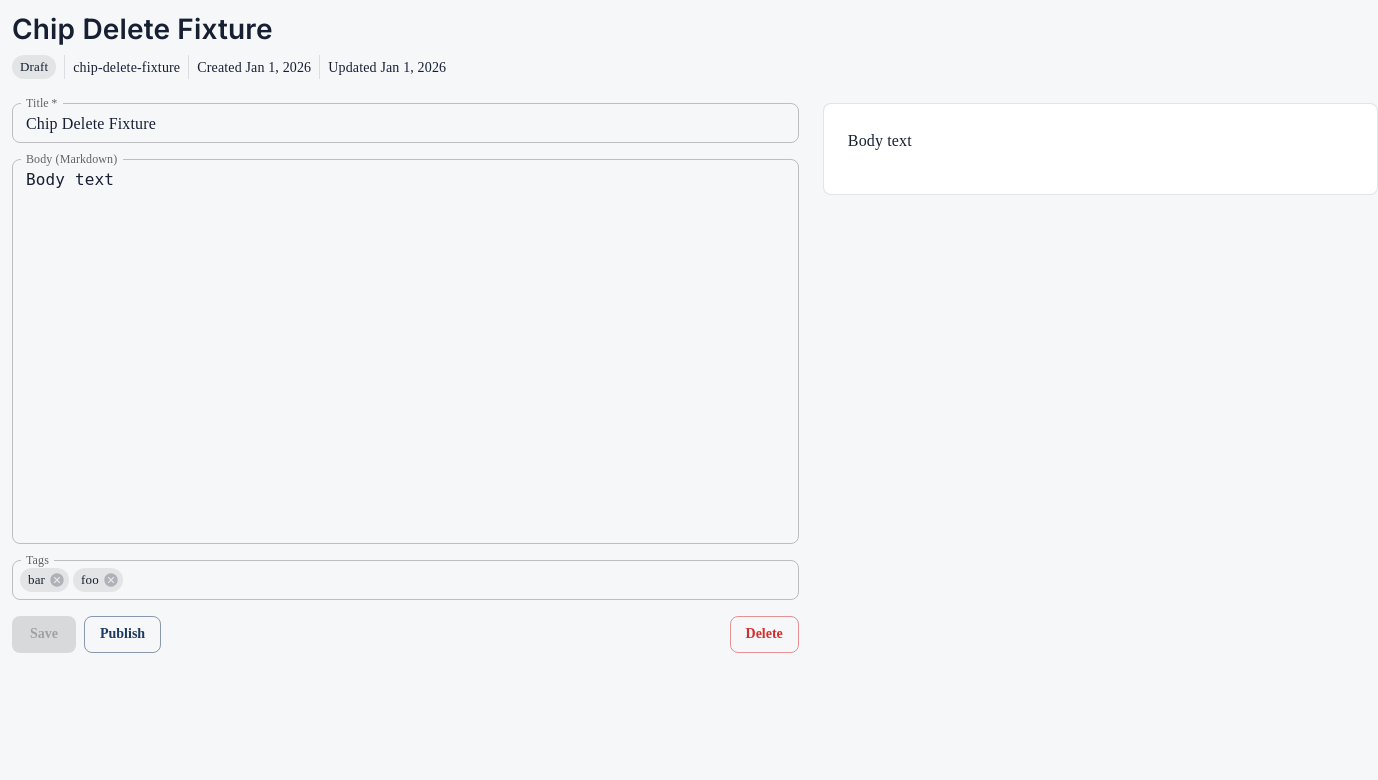
ContentEditorScreen tag chip delete preserves in-progress typing (WR-11 fix round 1) › deleting a chip with no pending typed text still removes only that tag
Check: the text "bar" is shown, box [28,572,45,587]
Check: the text "foo" is shown, box [81,572,99,587]
Click the 1st icon.
click(57, 580)  # box [49,572,65,588]
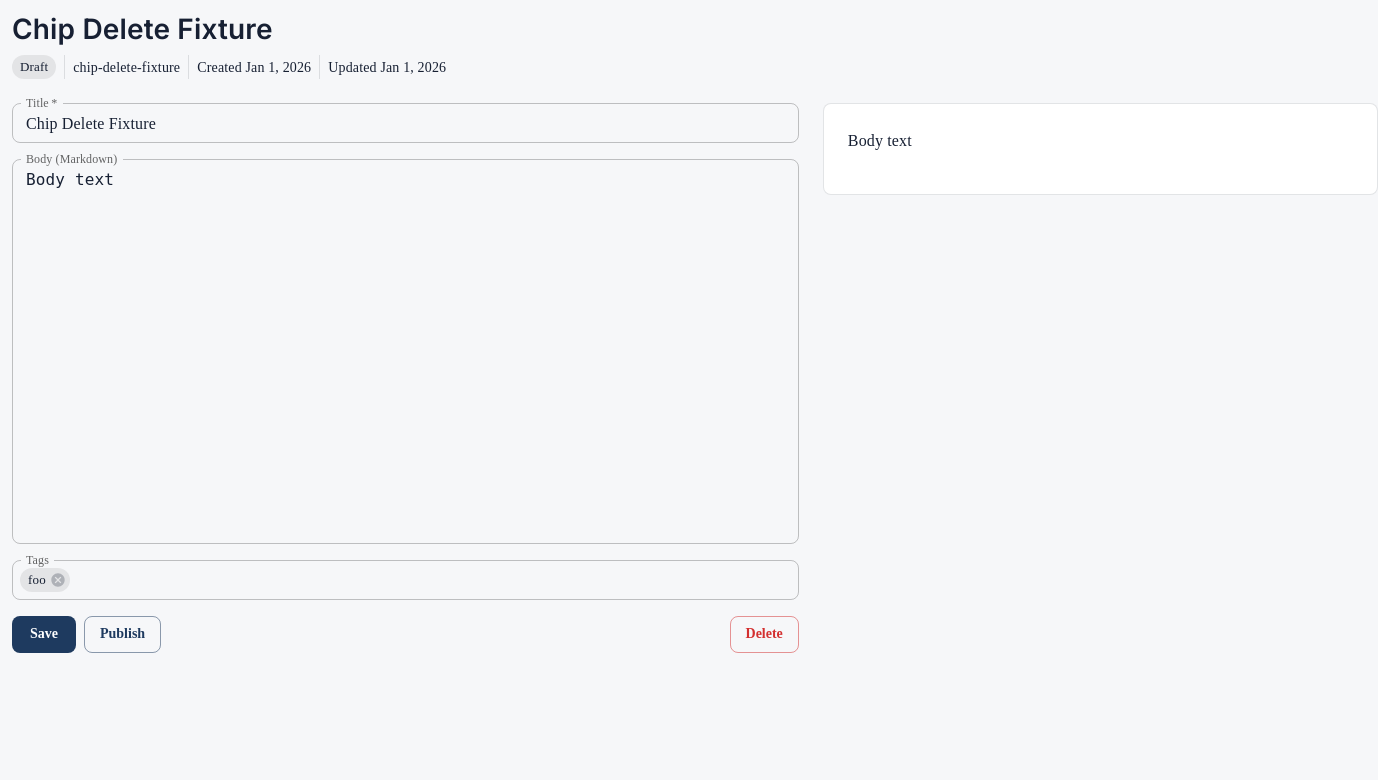
Check: the dropdown labelled "Tags" is empty, box [72,566,760,594]
Check: the button "bar" is gone
Check: the text "foo" is shown, box [28,572,46,587]
